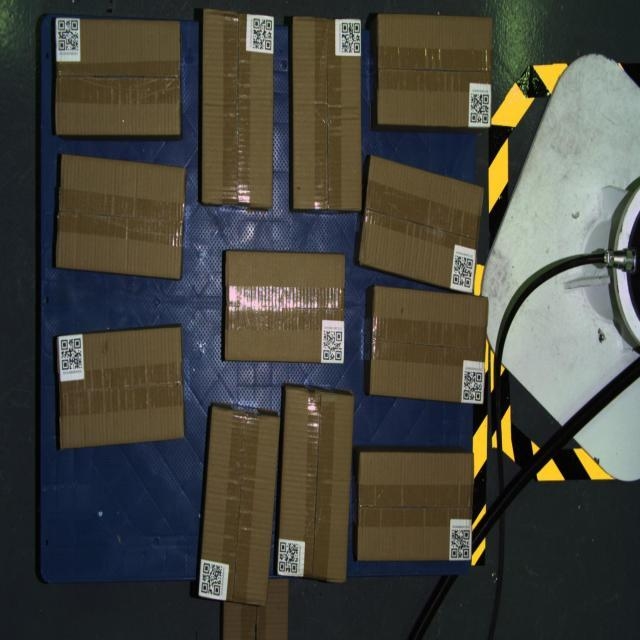box: (358, 155, 484, 295), (55, 154, 187, 280), (198, 406, 281, 606), (56, 327, 185, 450), (277, 388, 354, 582), (202, 8, 276, 208), (56, 18, 180, 136), (370, 286, 488, 404), (224, 250, 344, 364), (293, 16, 362, 211), (378, 13, 492, 128), (356, 451, 474, 562)
